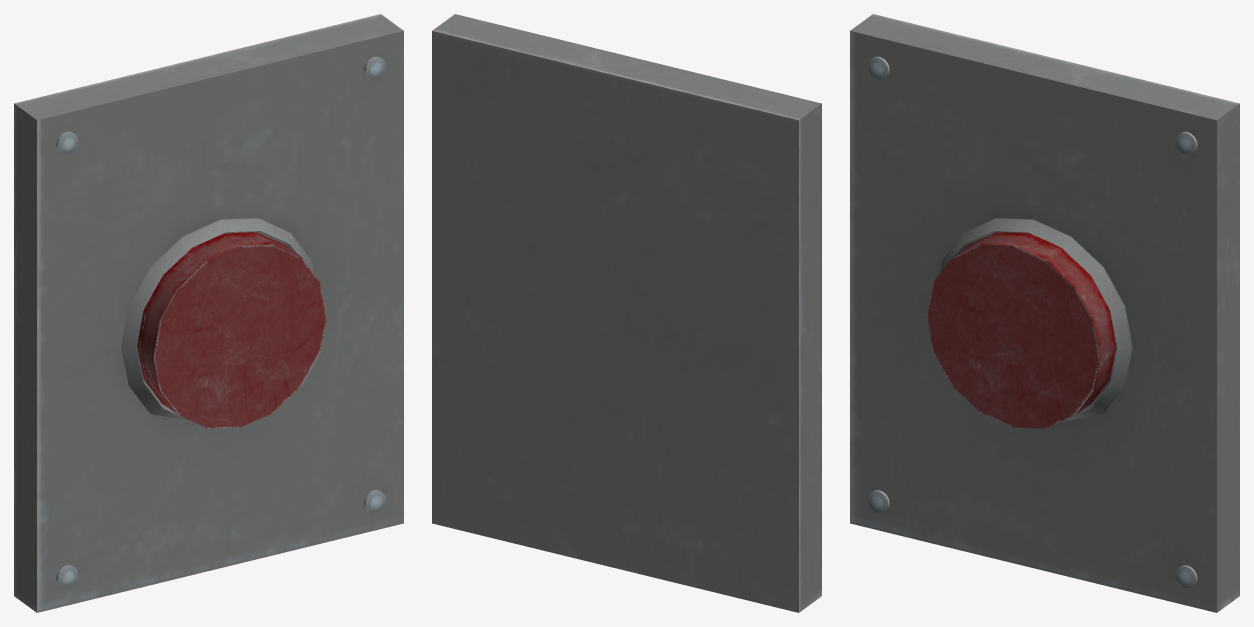
File: button.fbx
3 renders of one model, left to right at view 1: azimuth 30°, elevation 25°; view 2: azimuth 150°, elevation 25°; view 3: azimuth 330°, elevation 25°, orthographic.
Parts seen in each view (by area): view 1: Cube, Cube.001; view 2: Cube; view 3: Cube, Cube.001.
Boxes of the visible parts, x1,y1,x2,y2 form: Cube: (14,14,403,612); Cube.001: (137,232,327,428); Cube: (432,14,821,612); Cube: (850,14,1239,612); Cube.001: (926,232,1116,428).
Size of the model in its own units: 21.72 by 27.88 by 4.43.
